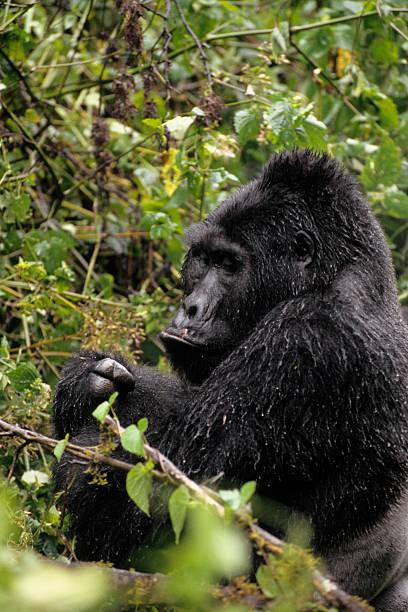goriile_montagne: (40, 131, 407, 612)
